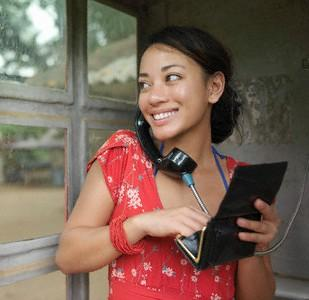person: (56, 25, 282, 300)
